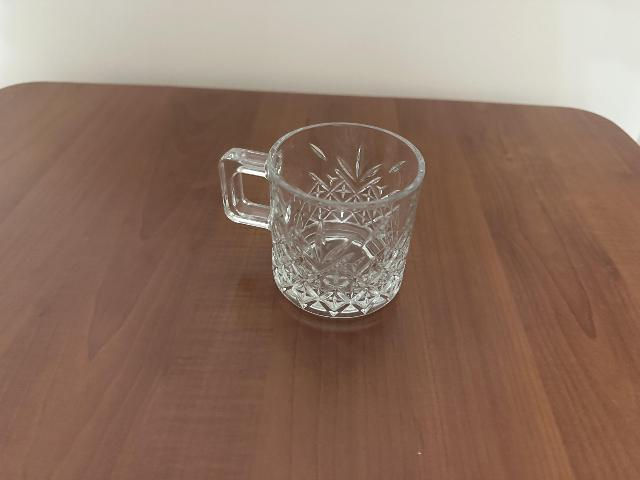Cam: (216, 124, 422, 321)
